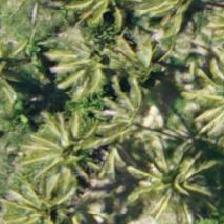coconut_tree: (69, 70, 159, 160), (96, 26, 186, 116), (128, 133, 218, 223), (26, 108, 116, 198), (17, 157, 107, 223), (0, 17, 47, 107)
